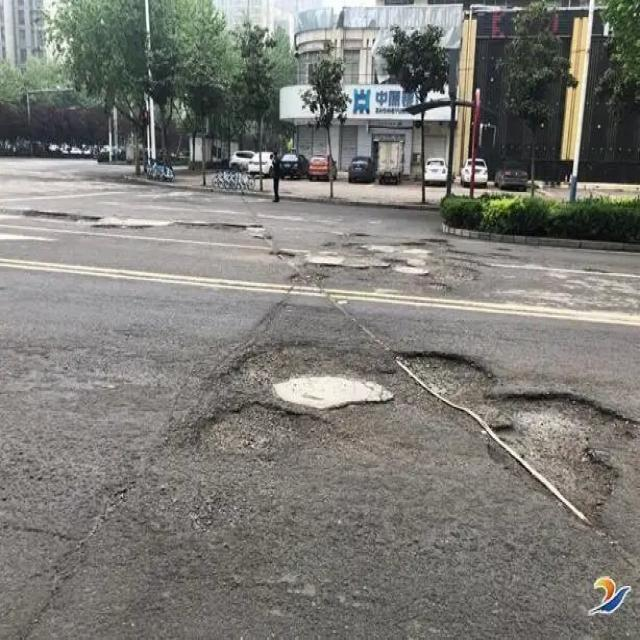Pothole: (393, 340, 632, 542), (23, 204, 272, 244), (186, 388, 316, 462), (289, 249, 519, 289), (575, 264, 608, 274), (268, 248, 294, 260)
